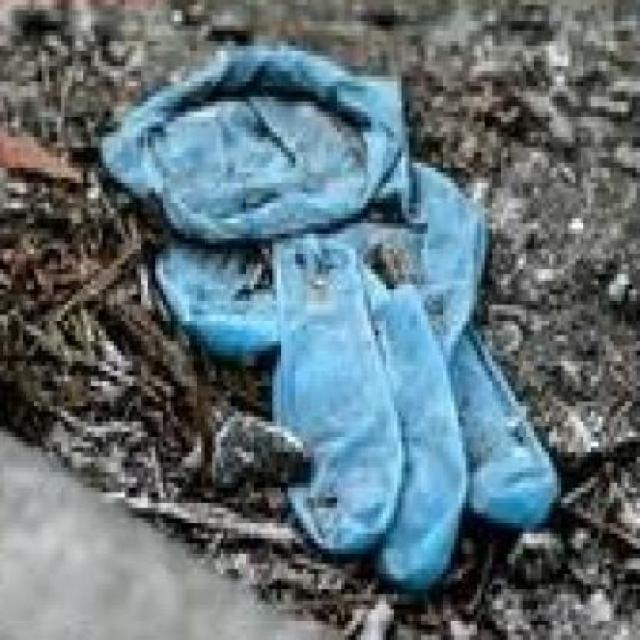Gloves: (93, 39, 566, 583)
